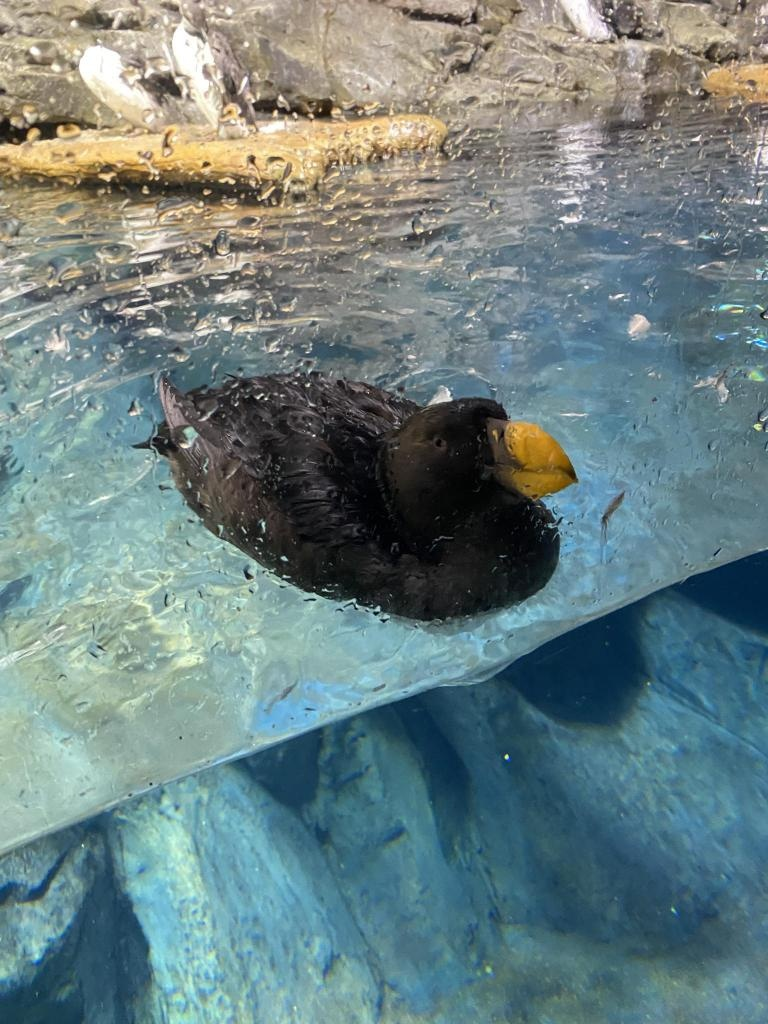puffin: (153, 374, 576, 630), (175, 0, 259, 137), (81, 46, 168, 134)
